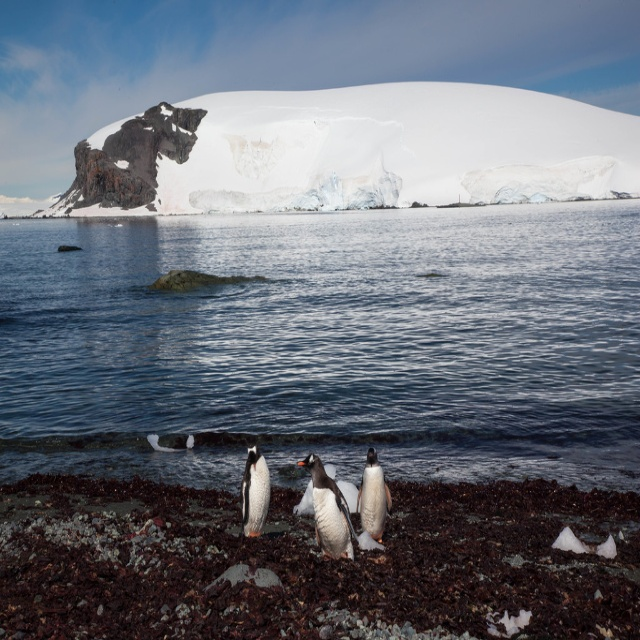Penguin: (297, 454, 359, 561), (355, 447, 395, 547), (241, 434, 275, 540)
